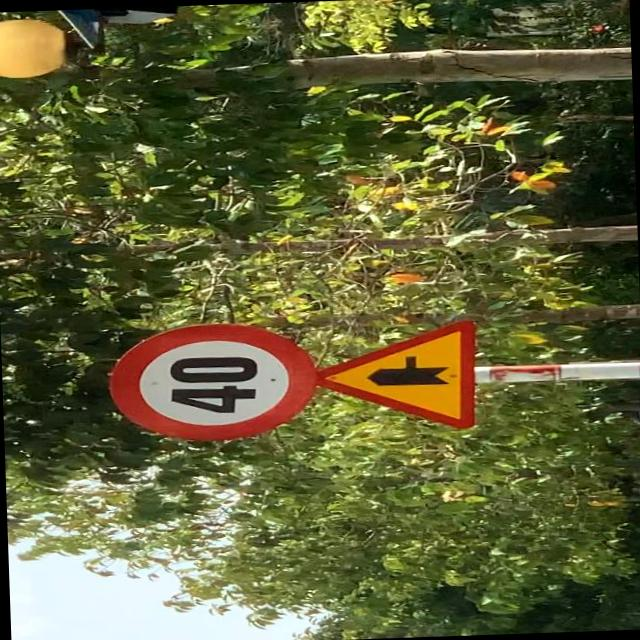P-127: (104, 319, 318, 445)
W-207b: (308, 320, 481, 437)
